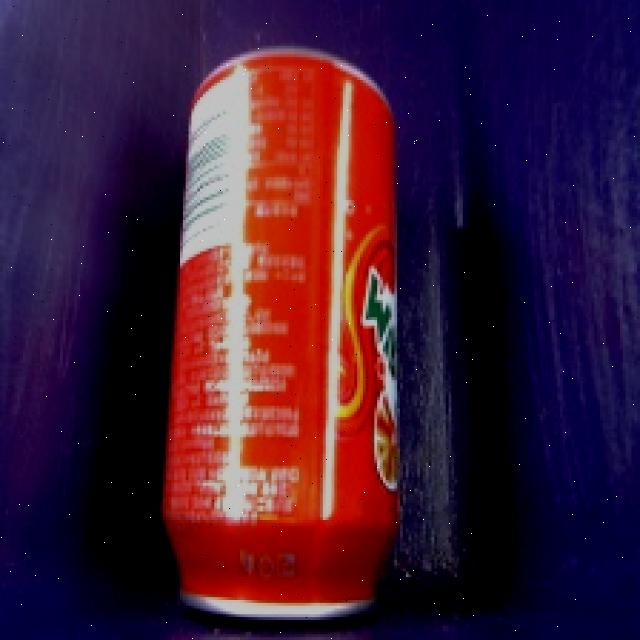metal: (136, 36, 414, 639)
